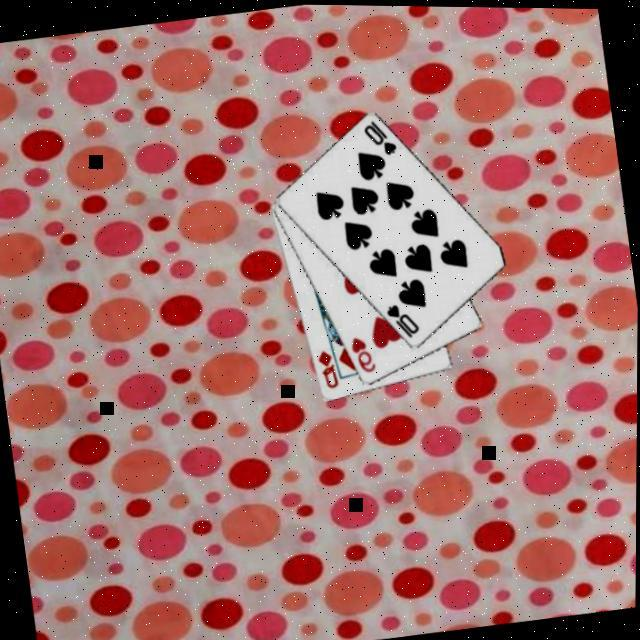10S: (358, 112, 399, 159), (382, 296, 422, 340)
6H: (346, 329, 378, 374)
QD: (313, 344, 341, 391)
